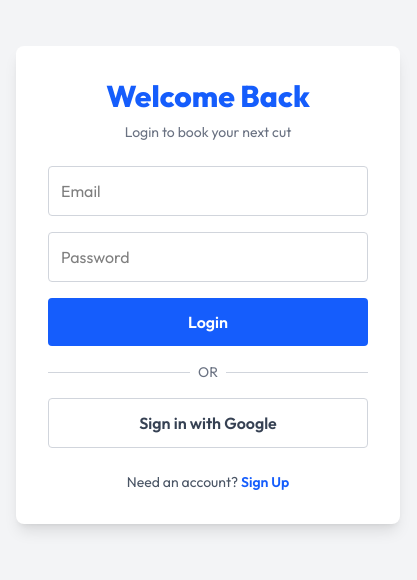
Scenario: Login page › shows the invalid credentials message
Type "customer@example.com" into the field with placeholder "Email".
click(208, 191); type("customer@example.com")  # box [48,166,368,216]
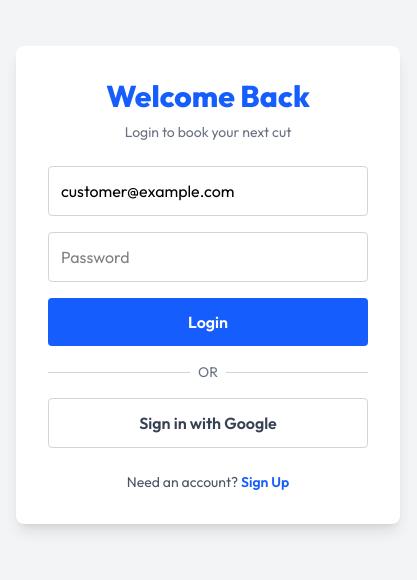
Type "secret123" into the password field with placeholder "Password".
click(208, 257); type("secret123")  # box [48,232,368,282]
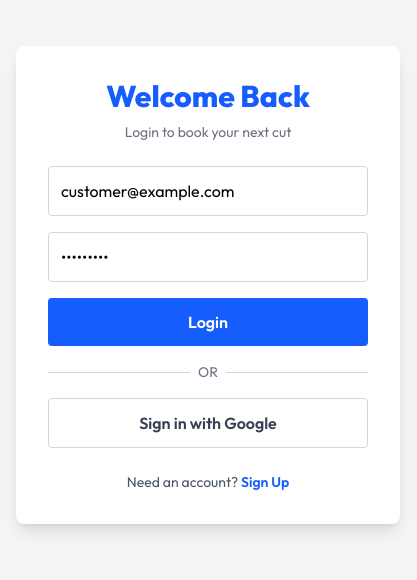
Click the button "Login".
click(208, 322)  # box [48,298,368,346]
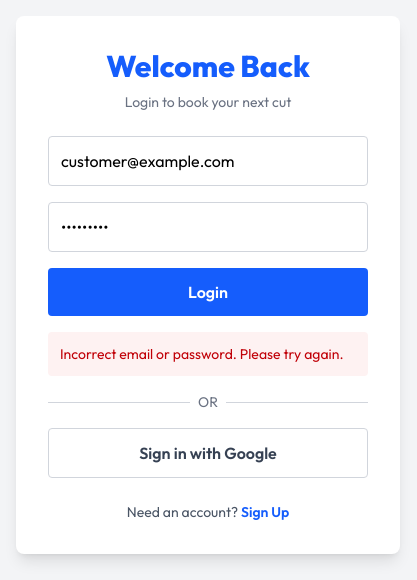
Expected: the message shows "Incorrect email or password", [60,345,344,363]
